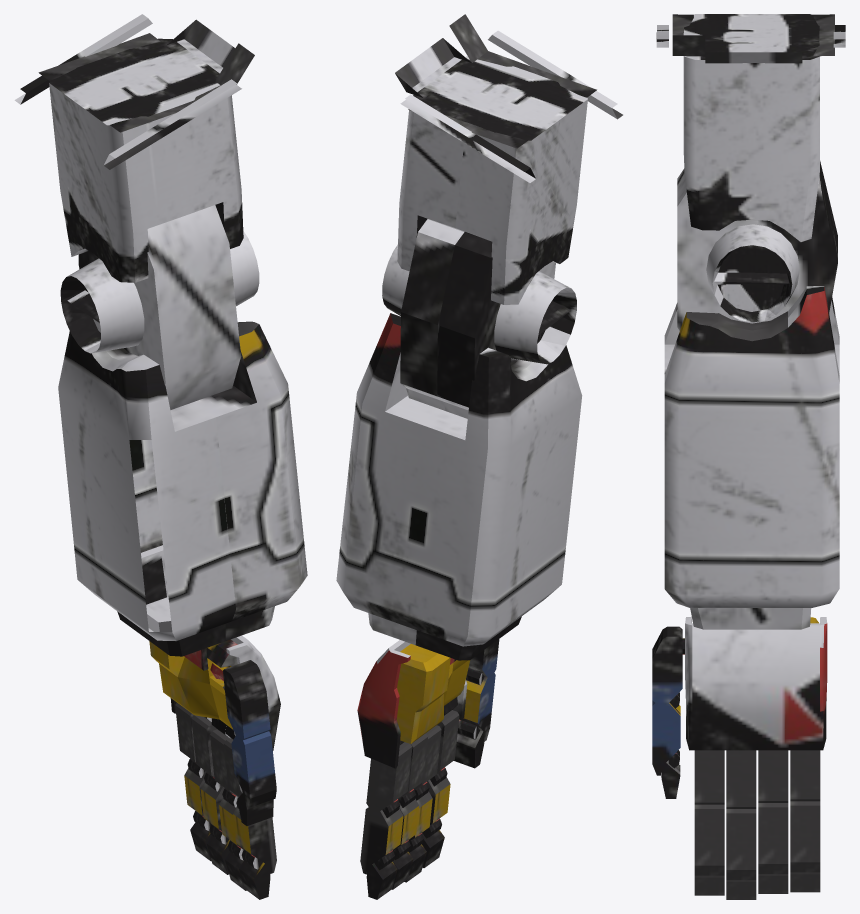
The model's file is hand_Left.obj.
3 views of the same model, side by side, from view 1: azimuth 30°, elevation 25°; view 2: azimuth 150°, elevation 25°; view 3: azimuth 270°, elevation 25° (orthographic). The views are drawn at different scales.
Visible parts, largest first — view 1: Gundam:polySurface666; view 2: Gundam:polySurface666; view 3: Gundam:polySurface666.
Part boxes in pixels (<box>): Gundam:polySurface666: <box>14,14,307,899</box>; Gundam:polySurface666: <box>336,14,622,899</box>; Gundam:polySurface666: <box>652,14,845,899</box>.
Size of the model in its own units: 2.51 by 9.85 by 2.03.
Materials: 1 (1 with a texture image).
